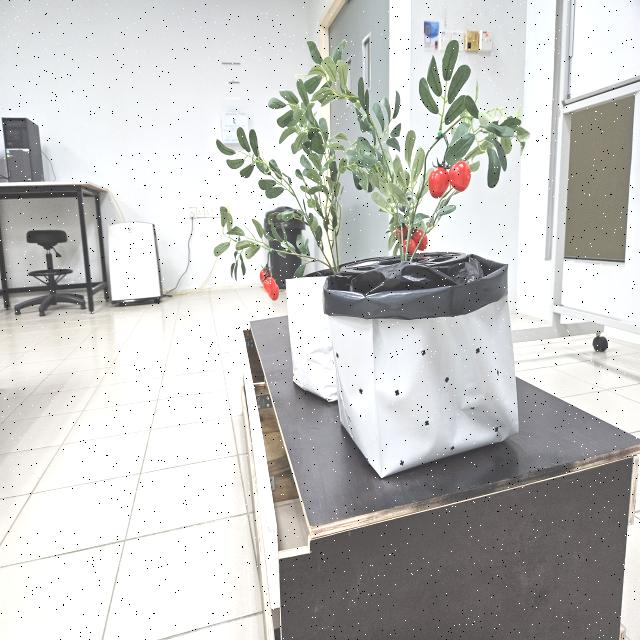Soilbag: (320, 253, 519, 480), (286, 277, 340, 404)
Tomato: (428, 154, 471, 199), (257, 267, 283, 302), (401, 230, 427, 259)
plant: (318, 41, 530, 257), (213, 40, 371, 301)
